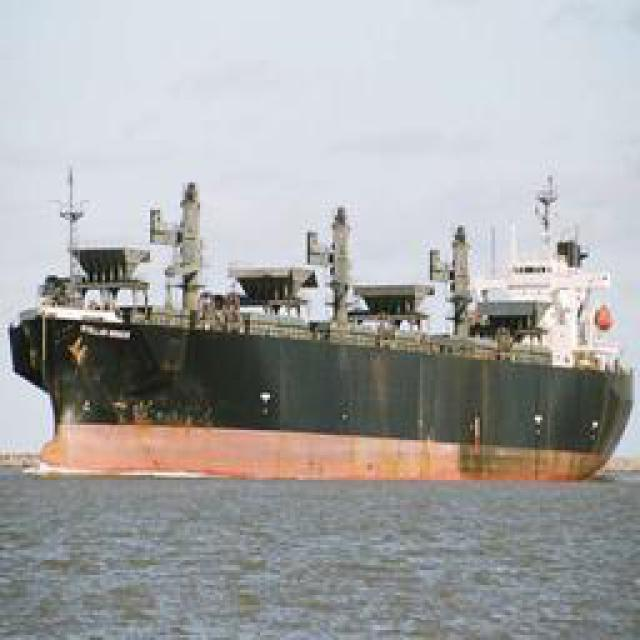Ship: (16, 155, 634, 490)
